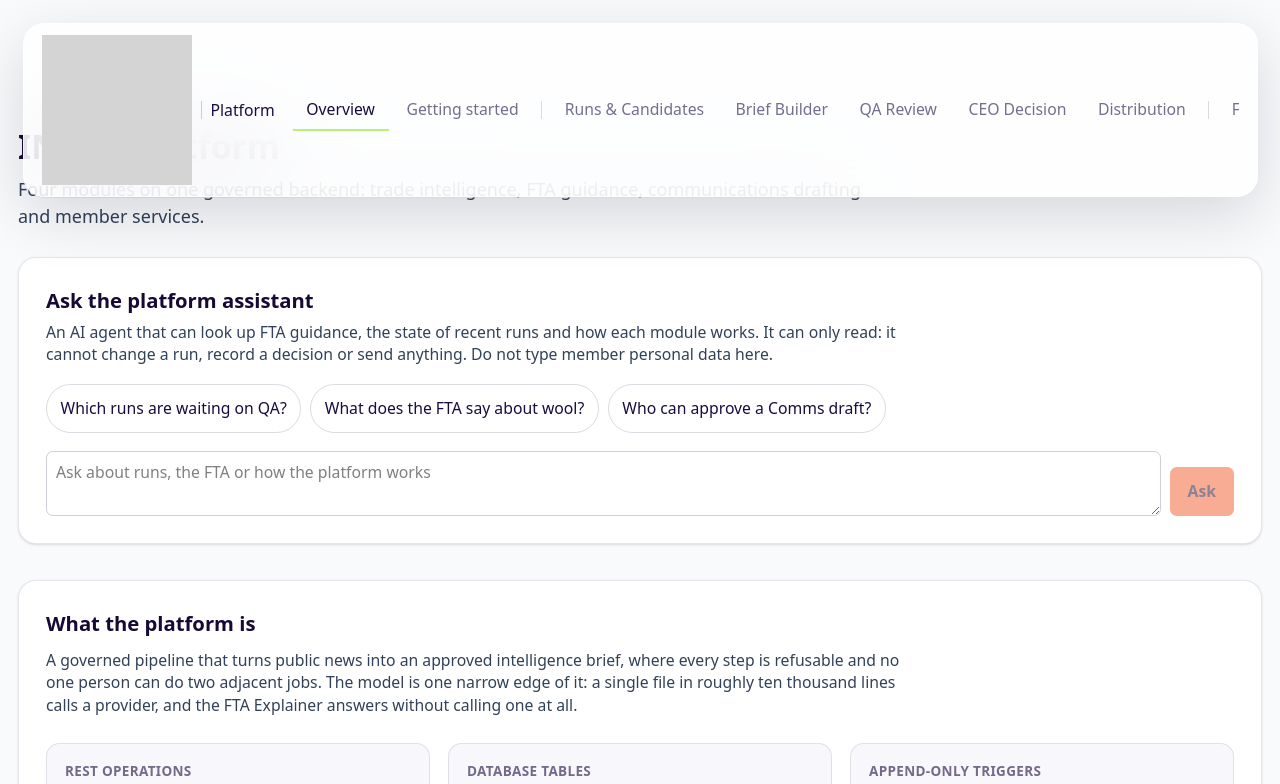
Scenario: AppShell › switches screens via the nav, marking the active tab with aria-current
This screenshot has width=1280, height=784.
Click the button "QA Review": [898, 110] box [846, 88, 950, 131]
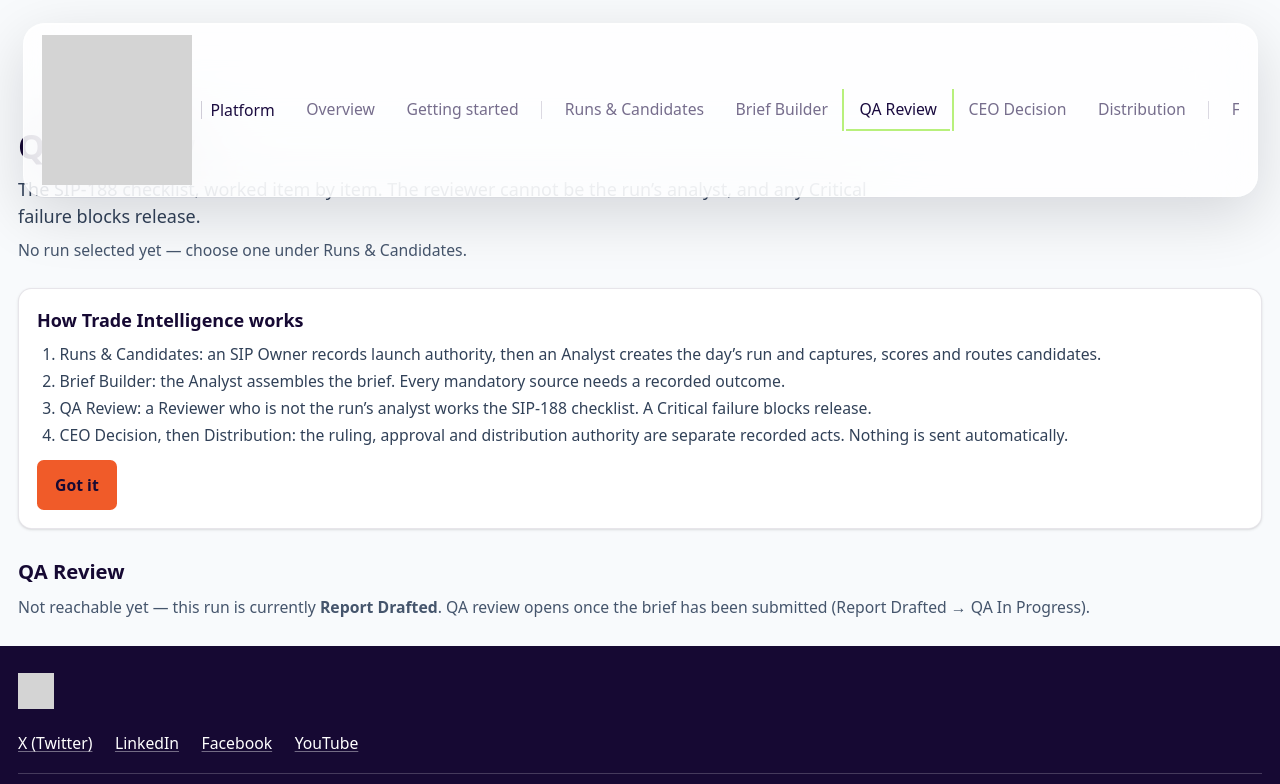
Check: the heading "QA Review" is shown, box [18, 556, 124, 584]
